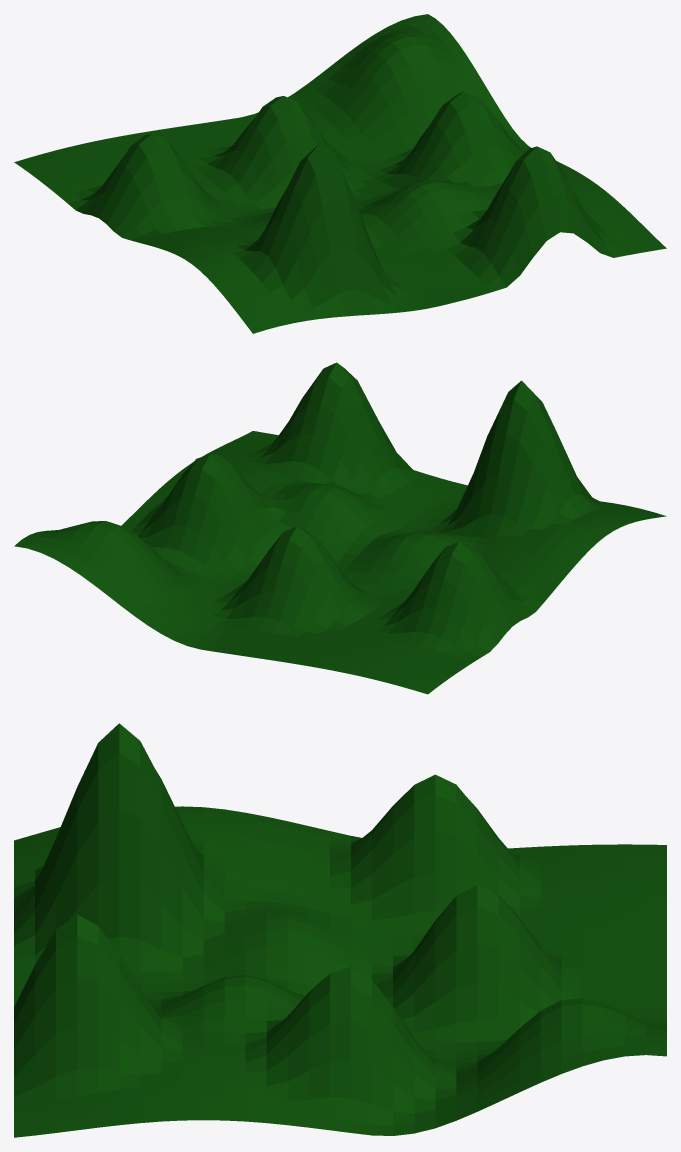
The model's file is world_01.glb.
3 views of the same model, one above another, from view 1: azimuth 30°, elevation 25°; view 2: azimuth 150°, elevation 25°; view 3: azimuth 270°, elevation 25° (orthographic). The views are drawn at different scales.
Parts seen in each view (by area): view 1: world_01; view 2: world_01; view 3: world_01.
Part boxes in pixels (bbox=[...]): world_01: bbox=[14, 14, 666, 333]; world_01: bbox=[14, 362, 666, 694]; world_01: bbox=[14, 723, 666, 1137].
Bounding box in the file's own units: 425 × 153 × 425.
